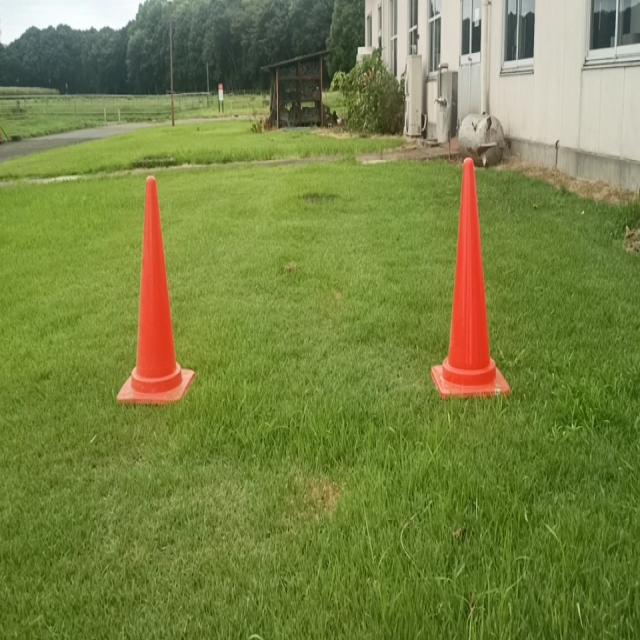cone: (113, 160, 209, 411), (428, 142, 508, 412)
